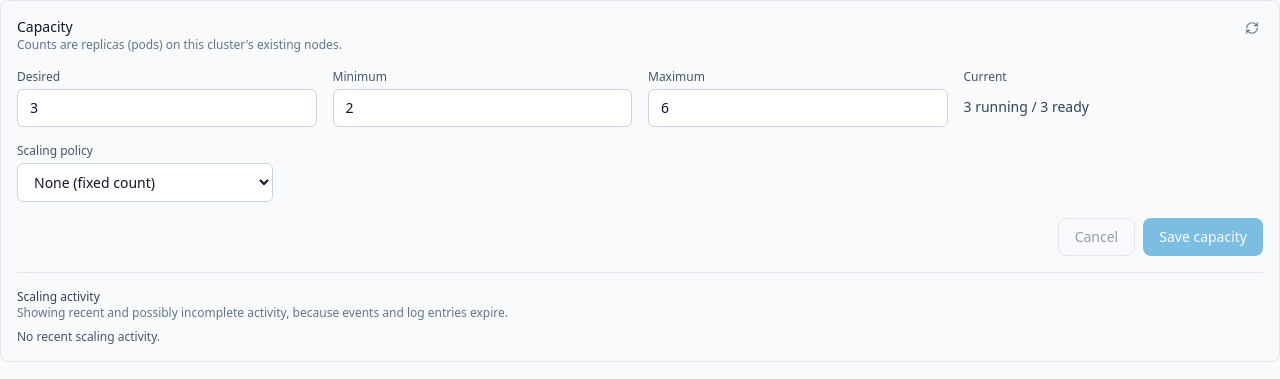
AppCapacityPanel › enables Save and Cancel only once something changed, and Cancel puts the loaded values back
expect the button with test id "capacity-save" is disabled: met, box [1143,218,1263,256]
Replace the text in the number field labelled "Desired" with "5" at (167, 108), box [17,89,316,127]
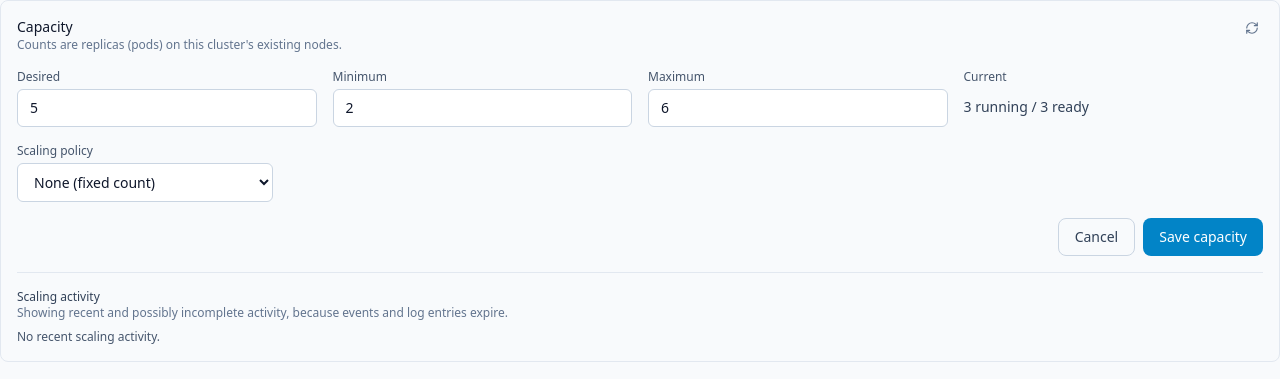
expect the button with test id "capacity-save" is enabled: met, box [1143,218,1263,256]
Click the button "Cancel" at (1096, 237), box [1058,218,1135,256]
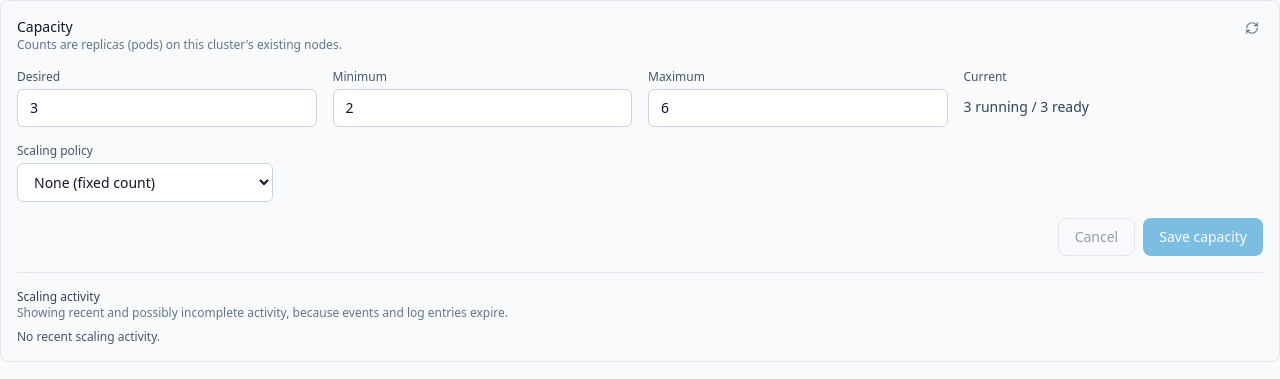
expect the button with test id "capacity-save" is disabled: met, box [1143,218,1263,256]
